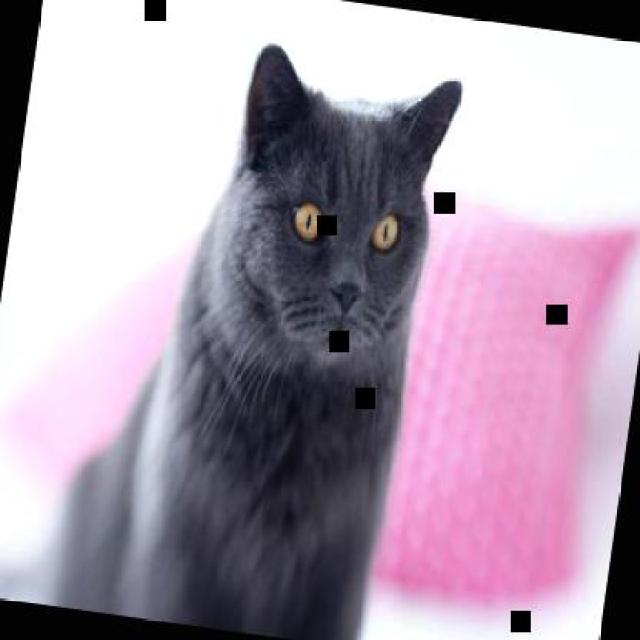cat: (46, 19, 469, 638)
